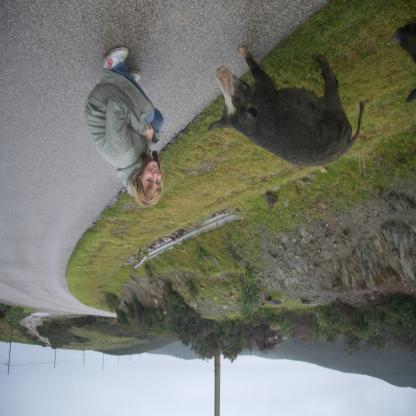boar: (207, 46, 365, 168), (391, 19, 416, 105)
